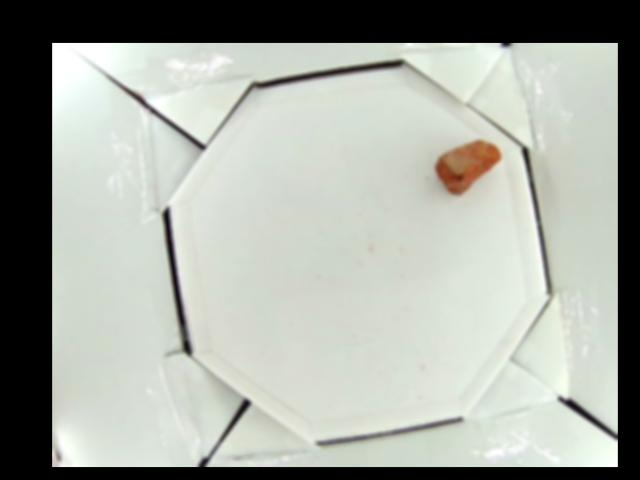Brisk: (435, 138, 503, 193)
